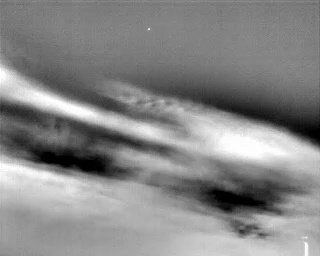BIRD: (146, 25, 152, 33)
